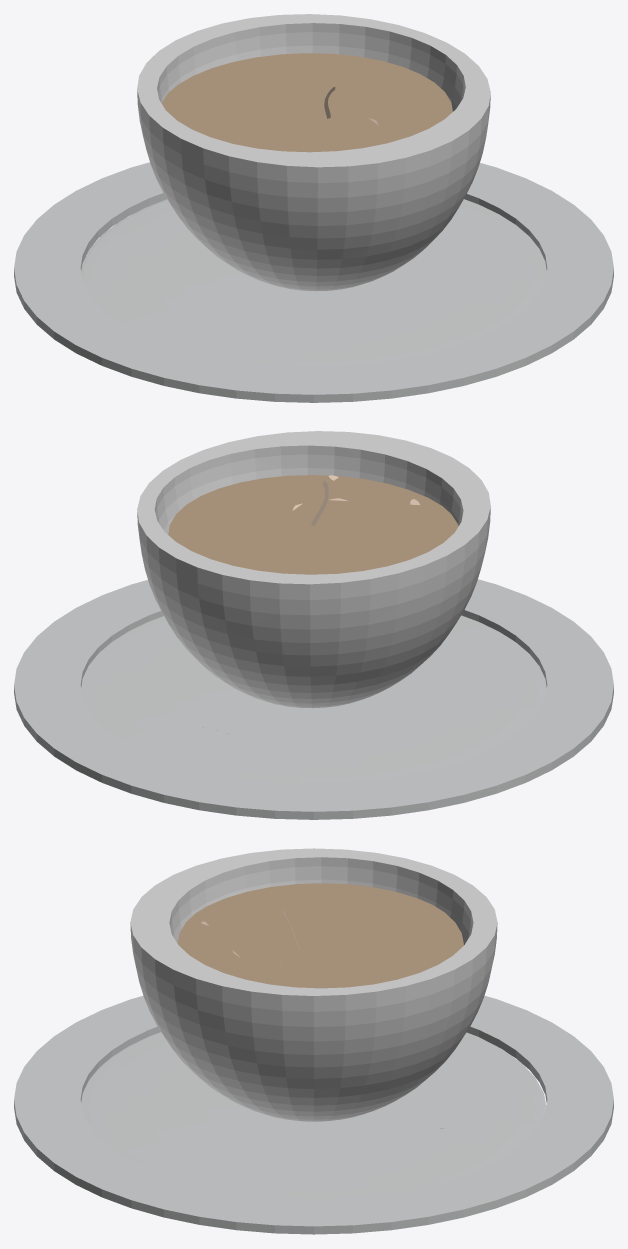
The model's file is Riley D- Ramen.glb.
The picture shows the model from 3 angles, top to bottom: view 1: azimuth 30°, elevation 25°; view 2: azimuth 150°, elevation 25°; view 3: azimuth 270°, elevation 25°; orthographic projection.
Parts seen in each view (by area): view 1: Mesh_Mesh_head_geo.001_lambert2SG.001; view 2: Mesh_Mesh_head_geo.001_lambert2SG.001; view 3: Mesh_Mesh_head_geo.001_lambert2SG.001.
Part boxes in pixels (bbox=[...]): Mesh_Mesh_head_geo.001_lambert2SG.001: bbox=[14, 14, 613, 402]; Mesh_Mesh_head_geo.001_lambert2SG.001: bbox=[14, 431, 613, 819]; Mesh_Mesh_head_geo.001_lambert2SG.001: bbox=[14, 848, 613, 1234].
Size of the model in its own units: 0.0715 by 0.0263 by 0.0715.
